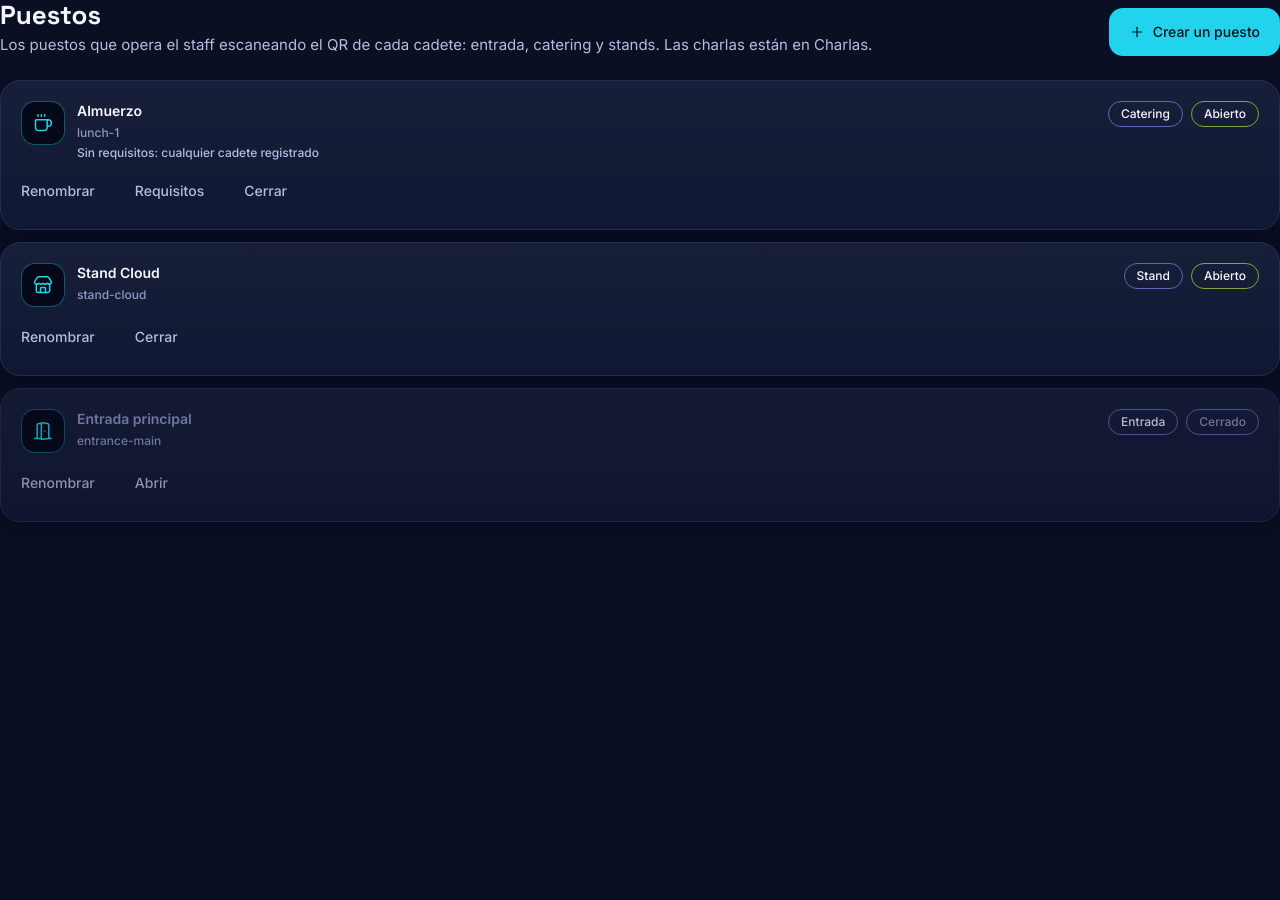
Scenario: CheckpointsAdminView rename › edits the name in place, saves it and refreshes
Click the button "Renombrar" below "lunch-1".
click(58, 191)  # box [5, 173, 111, 209]
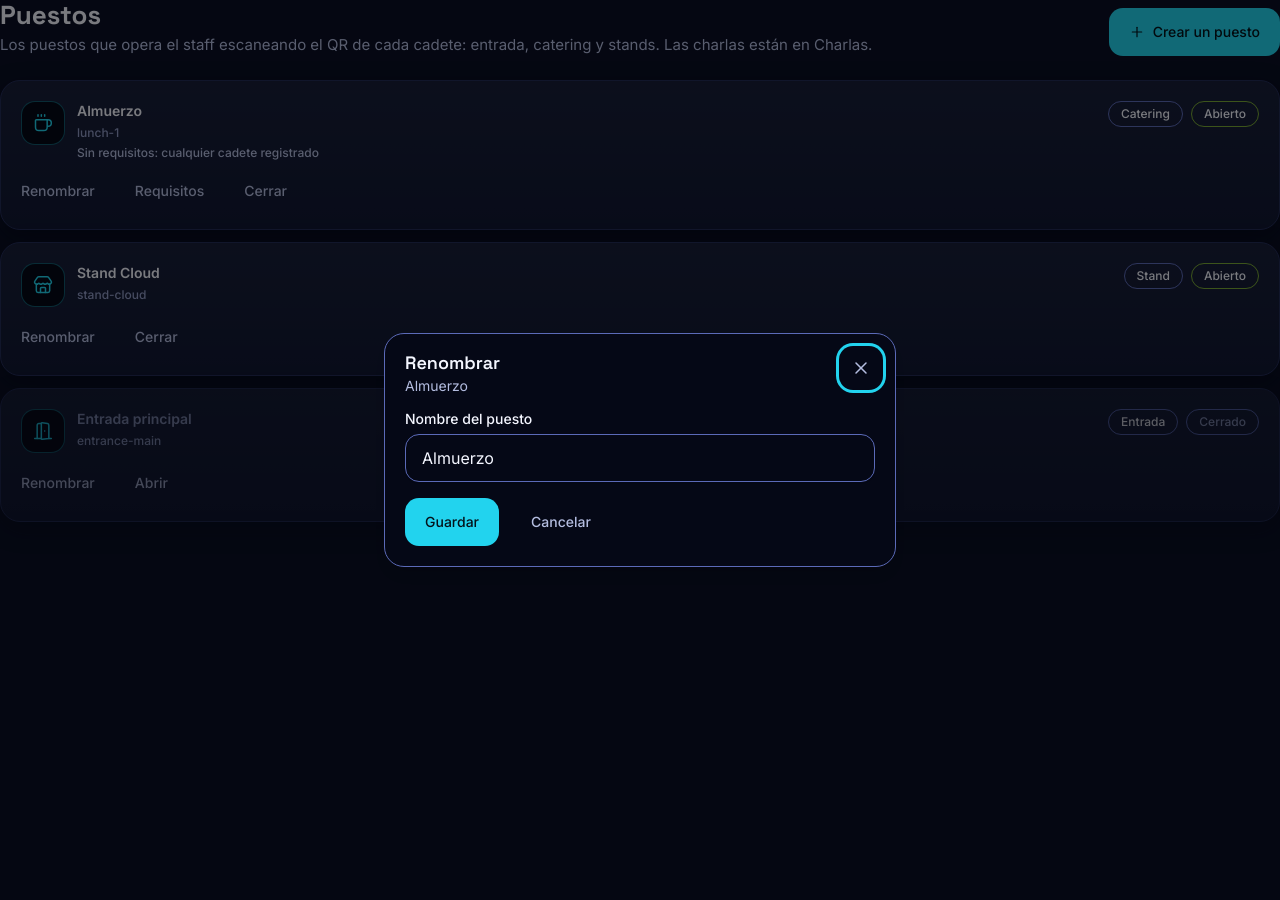
Check: the field labelled "Nombre del puesto" holds "Almuerzo"
Replace the text in the field labelled "Nombre del puesto" with "Almuerzo día 1" at (640, 458), box [405, 434, 875, 482]
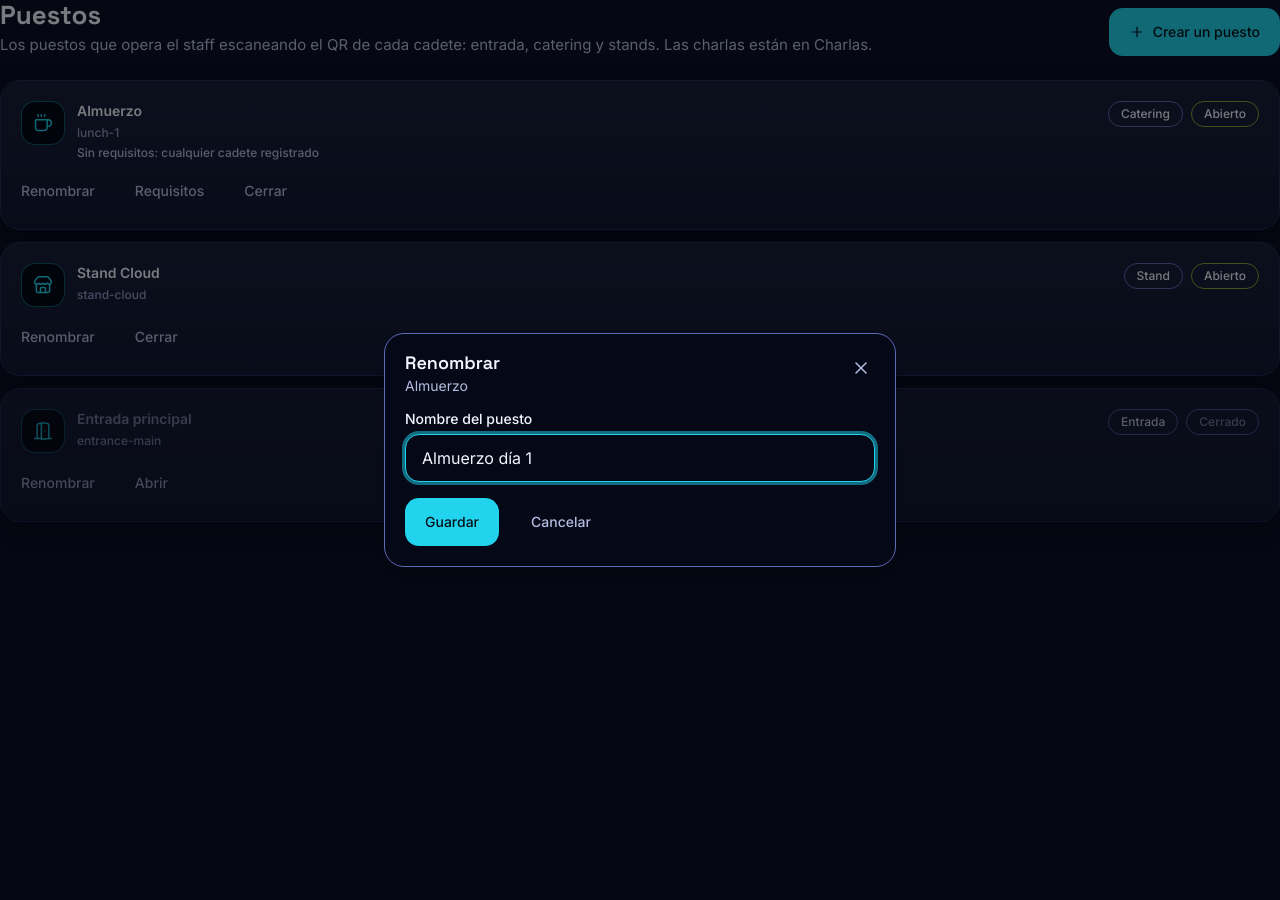
Click the button "Guardar".
click(452, 522)  # box [405, 498, 499, 546]
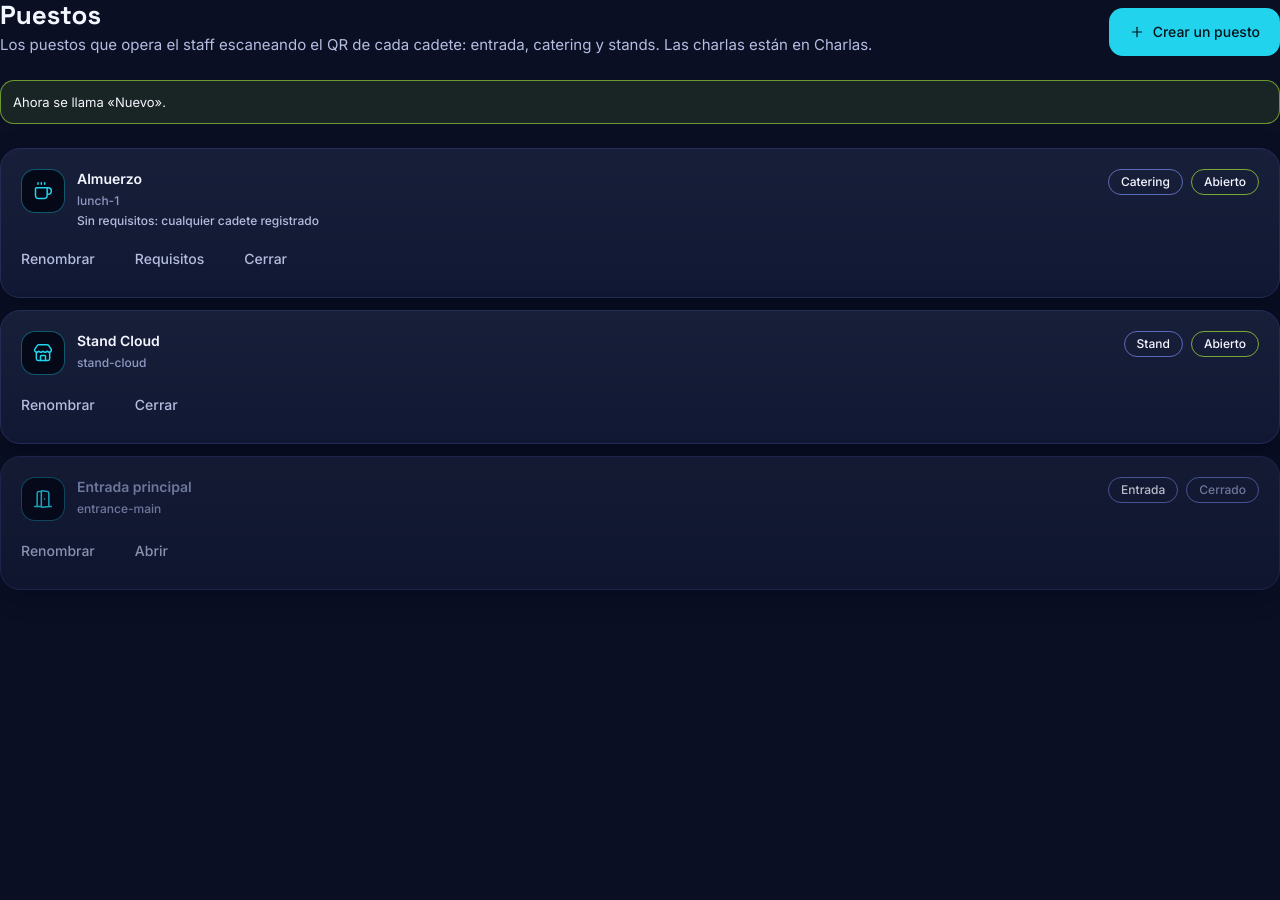
Check: the message reads "Ahora se llama «Nuevo».", box [13, 94, 166, 110]
